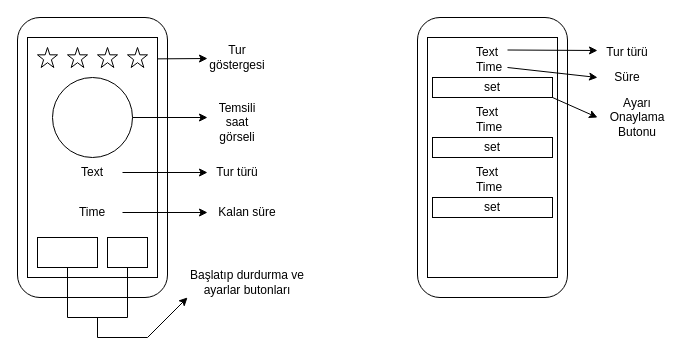
The diagram is 685 pixels wide and 363 high, and some of its shapes have lost their labels. The shapes that lost their labels are listed below. From the top down, each one's centre as x and y in pixels, then its label:
pixel 67 252: start
pixel 127 252: setting
